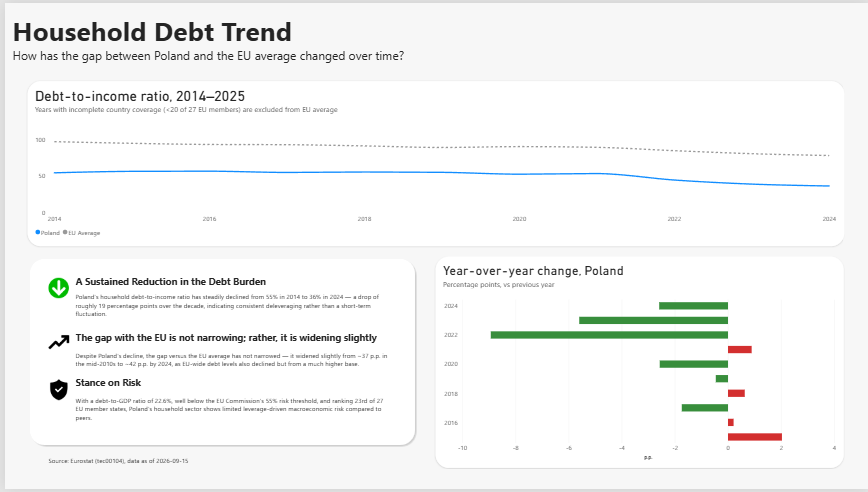

The page's visual inventory and layout, read from the dashboard file:
{"tool":"powerbi","page":{"name":"Trend","canvas":[1920,1080],"ordinal":1},"visuals":[{"type":"textbox","box":[17,20,1335,117],"z":0},{"type":"lineChart","title":"Debt-to-income ratio, 2014–2025","fields":{"Category":["tec00104_debt_to_income.year"],"Y":["tec00104_debt_to_income.PL_Value","tec00104_debt_to_income.EU_Average"]},"box":[50,172.5,1815,367.5],"z":1000},{"type":"barChart","title":"Year-over-year change, Poland","fields":{"Y":["tec00104_debt_to_income.YoY_Change_ByYear"],"Category":["tec00104_debt_to_income.year"]},"box":[957.5,562.5,907.5,470],"z":2000},{"type":"textbox","box":[95,1007,380,25],"z":3000},{"type":"shape","box":[50,562,866,424],"z":4000},{"type":"image","box":[95,601.7,45,60],"z":5000},{"type":"textbox","box":[156.7,601.7,463.3,60],"z":6000},{"type":"textbox","box":[156.7,643.3,693.3,83.3],"z":7000},{"type":"textbox","box":[156,728,694,46],"z":8000},{"type":"textbox","box":[156,774,694,52],"z":9000},{"type":"textbox","box":[156,826,730,46],"z":10000},{"type":"textbox","box":[1352,0,513,150],"z":11000},{"type":"textbox","box":[156,872,694,76],"z":12000},{"type":"image","box":[96,706,46,94],"z":13000},{"type":"image","box":[96,798,46,126],"z":14000}]}

Visuals, with their boxes in screenshot pixels (x1, y1, x2, y2), scaled from the page's 1920x1080 canvas onto the 868x492 screenshot:
textbox: detection(8, 9, 611, 62)
"Debt-to-income ratio, 2014–2025" lineChart: detection(23, 79, 843, 246)
"Year-over-year change, Poland" barChart: detection(433, 256, 843, 470)
textbox: detection(43, 459, 215, 470)
shape: detection(23, 256, 414, 449)
image: detection(43, 274, 63, 301)
textbox: detection(71, 274, 280, 301)
textbox: detection(71, 293, 384, 331)
textbox: detection(71, 332, 384, 353)
textbox: detection(71, 353, 384, 376)
textbox: detection(71, 376, 401, 397)
textbox: detection(611, 0, 843, 68)
textbox: detection(71, 397, 384, 432)
image: detection(43, 322, 64, 364)
image: detection(43, 364, 64, 421)
